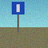sign: (12, 2, 24, 32)
